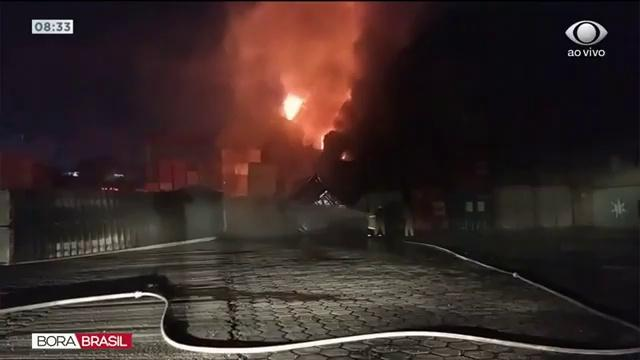fire: (283, 95, 303, 122)
smoke: (255, 7, 333, 72)
